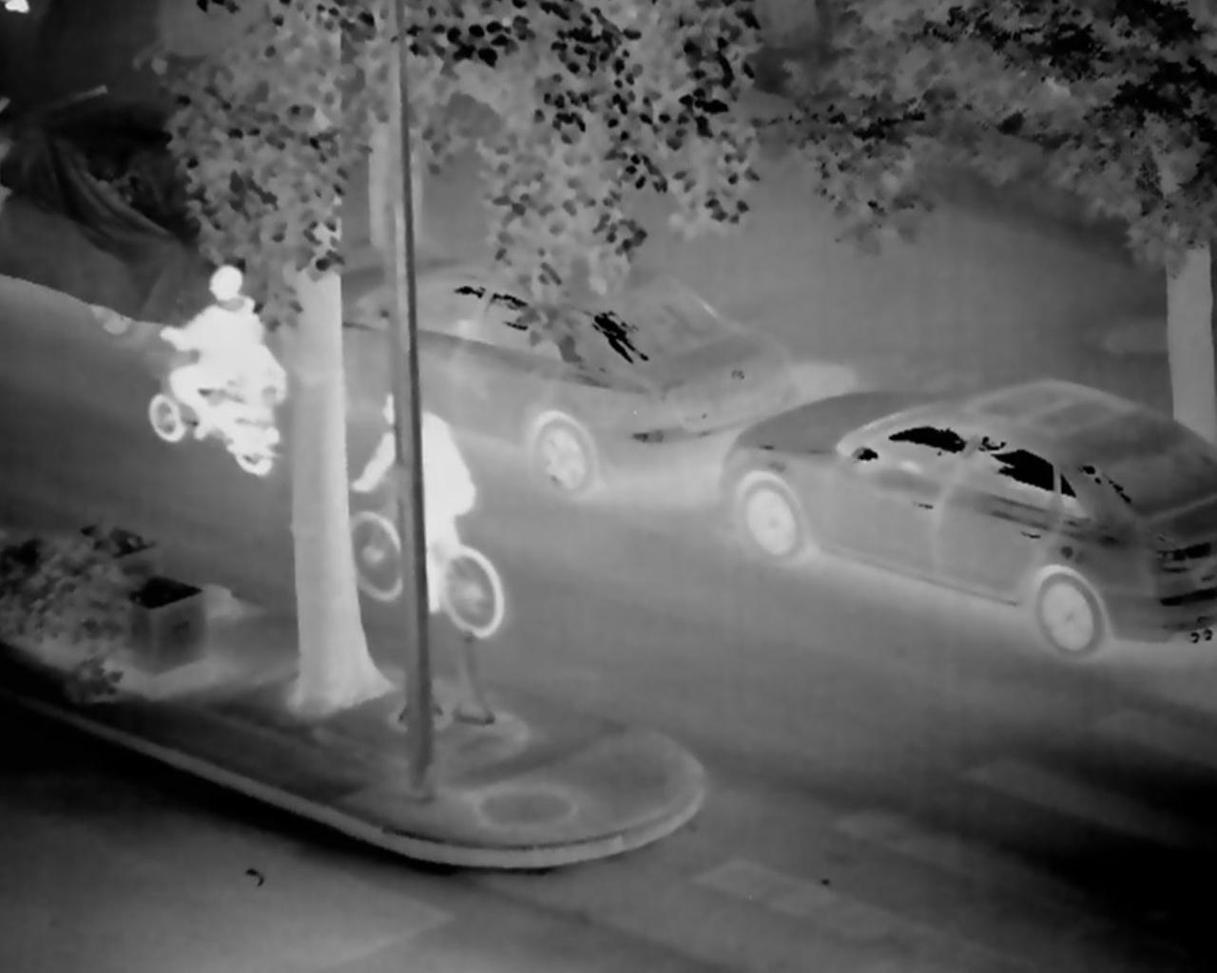person: (355, 396, 471, 613), (156, 265, 280, 467)
